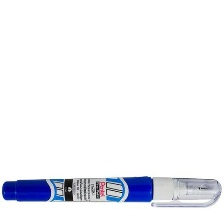correction_fluid: (0, 174, 222, 209)
